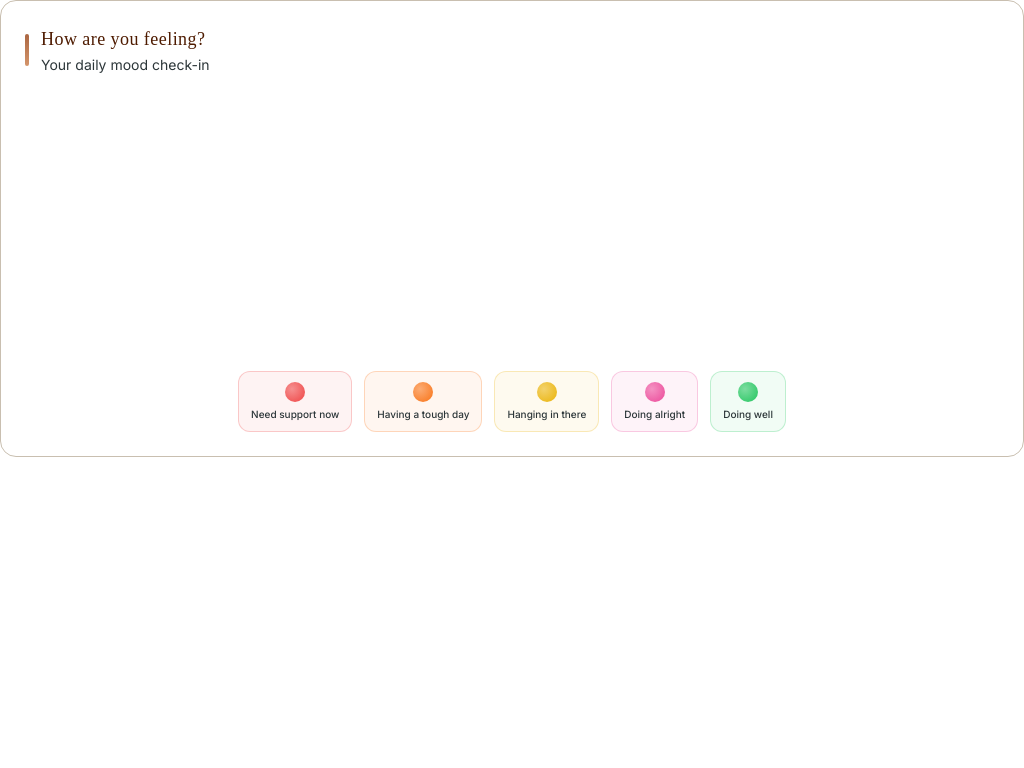
Scenario: MoodCheckIn › shows cooldown state after successful check-in
What coordinates should you click on to do the following:
click the button "Doing well"
I would click on:
 (748, 401)
Its box is [710,371,786,432].
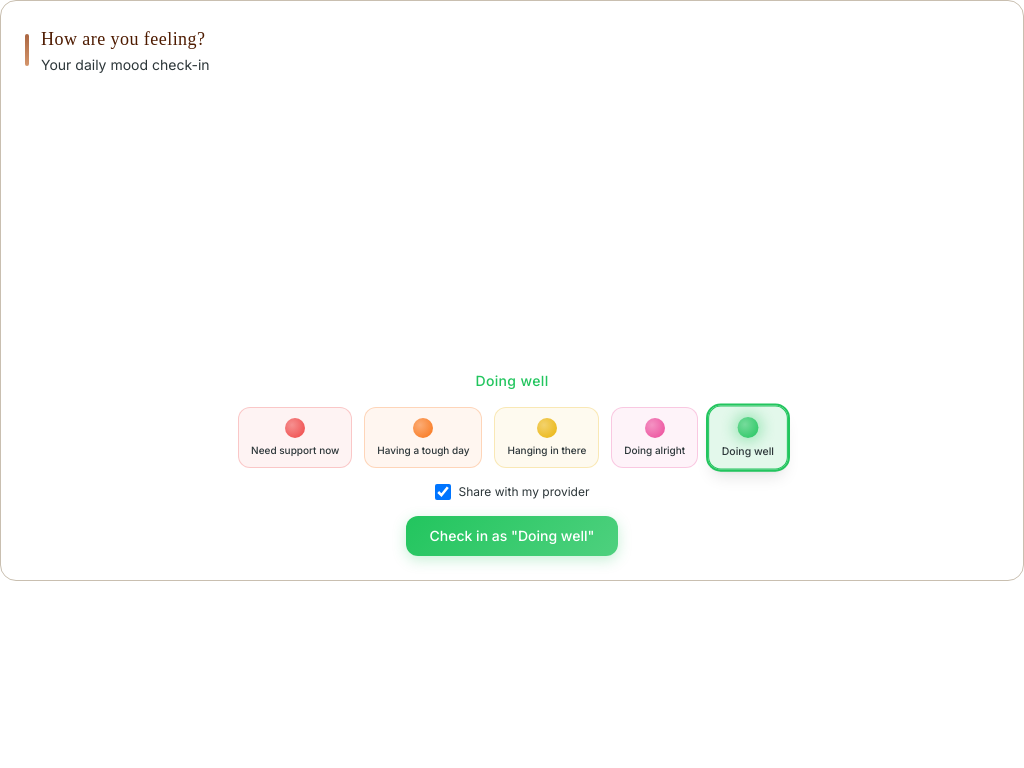
What coordinates should you click on to do the following:
click the button "Check in as \"Doing well\""
I would click on:
 (512, 536)
Its box is [406,516,618,556].
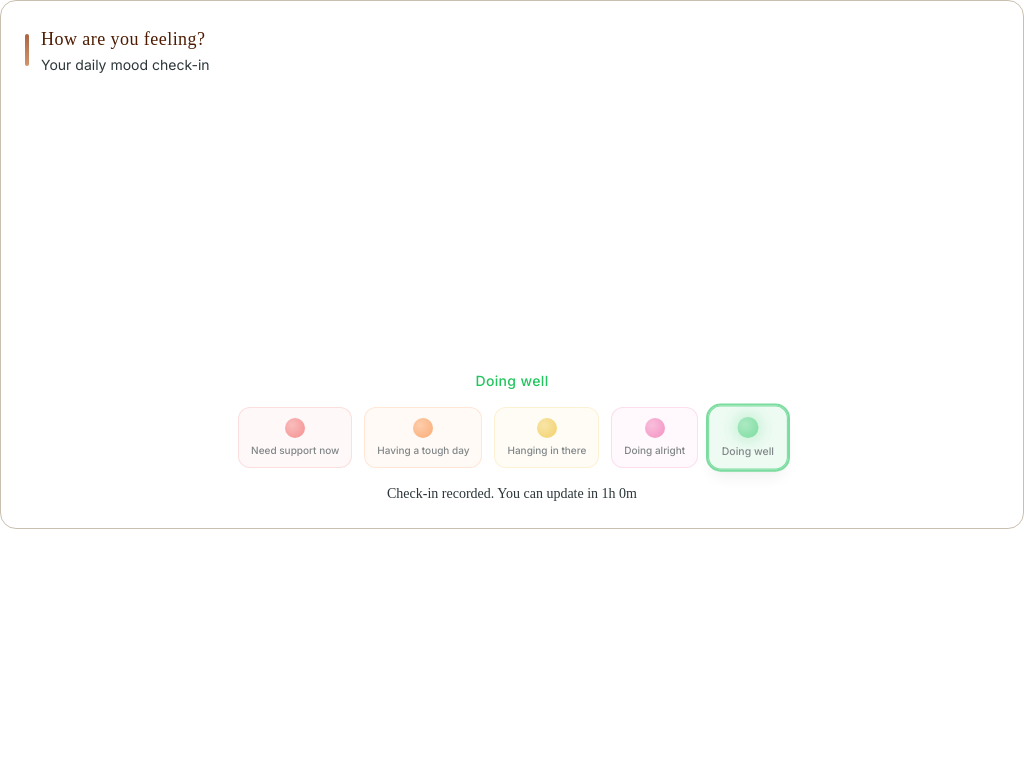
Expected: the text "Check-in recorded. You can update in 1h 0m" is shown, [387,486,637,500]
